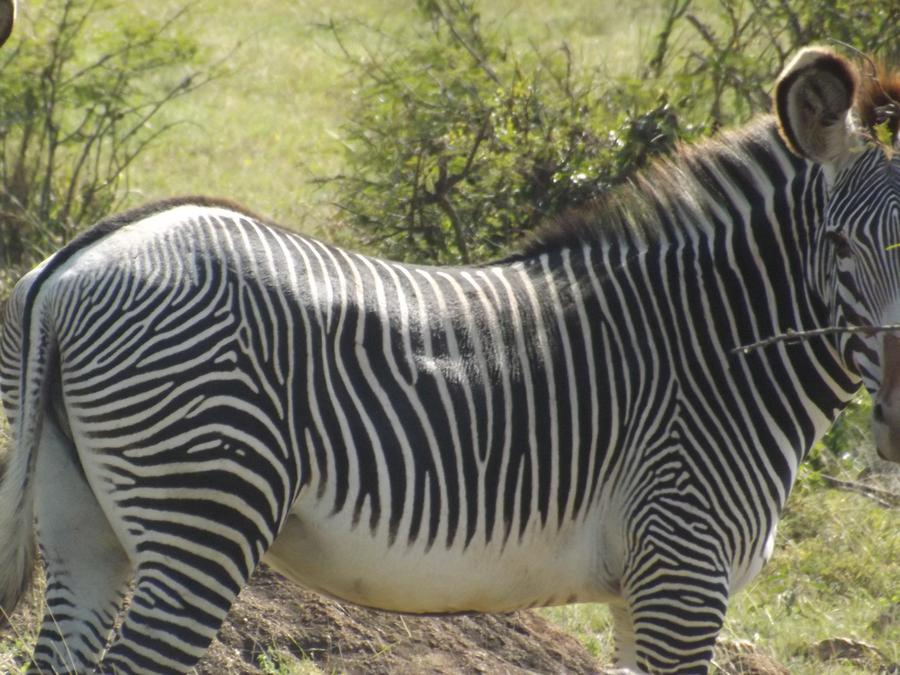zebra_grevys: (30, 183, 758, 582)
